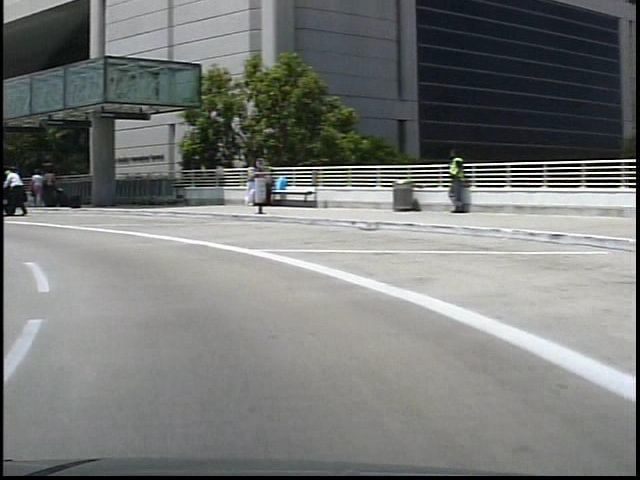person: (437, 149, 463, 220), (38, 165, 53, 209), (26, 164, 41, 205)
